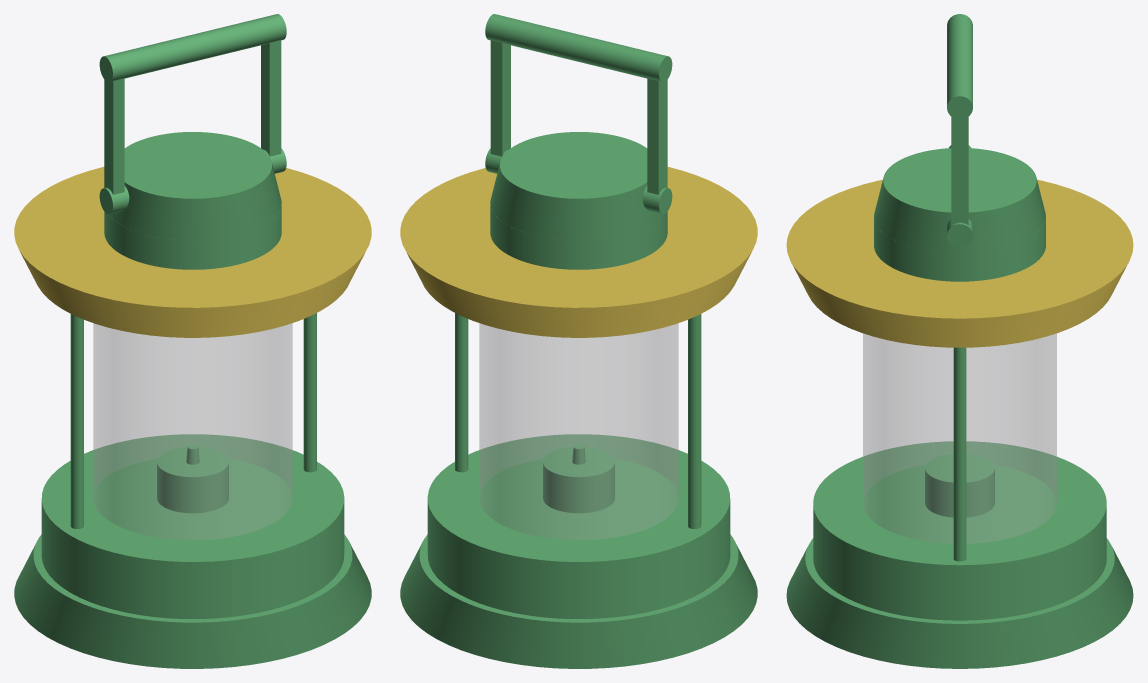
File: Lantern.fbx
3 renders of one model, left to right at view 1: azimuth 30°, elevation 25°; view 2: azimuth 150°, elevation 25°; view 3: azimuth 270°, elevation 25°, orthographic. The views are drawn at different scales.
Parts seen in each view (by area): view 1: Cylinder (×3), Cylinder 1, Cylinder 6, Cylinder 7, Cylinder 9, Cylinder 2, Cylinder 4, Box, Box 1, Cylinder 5, Cylinder 8; view 2: Cylinder (×3), Cylinder 1, Cylinder 6, Cylinder 7, Cylinder 9, Cylinder 2, Cylinder 4, Box, Box 1, Cylinder 5, Cylinder 8; view 3: Cylinder (×3), Cylinder 1, Cylinder 6, Cylinder 7, Cylinder 2, Cylinder 5, Cylinder 9, Box 1, Cylinder 8.
Boxes of the visible parts, box(x1,y1,x2,y2) form: Cylinder (×3): box(14, 132, 371, 668); Cylinder 1: box(41, 434, 344, 618); Cylinder 6: box(93, 323, 292, 539); Cylinder 7: box(104, 199, 281, 269); Cylinder 9: box(99, 14, 286, 82); Cylinder 2: box(157, 447, 228, 513); Cylinder 4: box(70, 314, 83, 528); Box: box(104, 78, 124, 194); Box 1: box(261, 40, 281, 156); Cylinder 5: box(303, 313, 316, 472); Cylinder 8: box(99, 148, 286, 214); Cylinder (×3): box(400, 132, 757, 668); Cylinder 1: box(427, 434, 730, 618); Cylinder 6: box(479, 323, 678, 539); Cylinder 7: box(490, 199, 667, 269); Cylinder 9: box(485, 14, 672, 82); Cylinder 2: box(543, 447, 614, 513); Cylinder 4: box(688, 314, 701, 528); Box: box(647, 78, 667, 194); Box 1: box(490, 40, 510, 156); Cylinder 5: box(455, 313, 468, 472); Cylinder 8: box(485, 148, 672, 214); Cylinder (×3): box(786, 148, 1133, 668); Cylinder 1: box(813, 441, 1106, 620); Cylinder 6: box(863, 333, 1056, 543); Cylinder 7: box(874, 215, 1045, 281); Cylinder 2: box(925, 453, 994, 517); Cylinder 5: box(953, 347, 966, 561); Cylinder 9: box(947, 14, 972, 119); Box 1: box(951, 117, 968, 225); Cylinder 8: box(947, 145, 972, 247).
Size of the model in its own units: 80.6 by 80.6 by 139.
